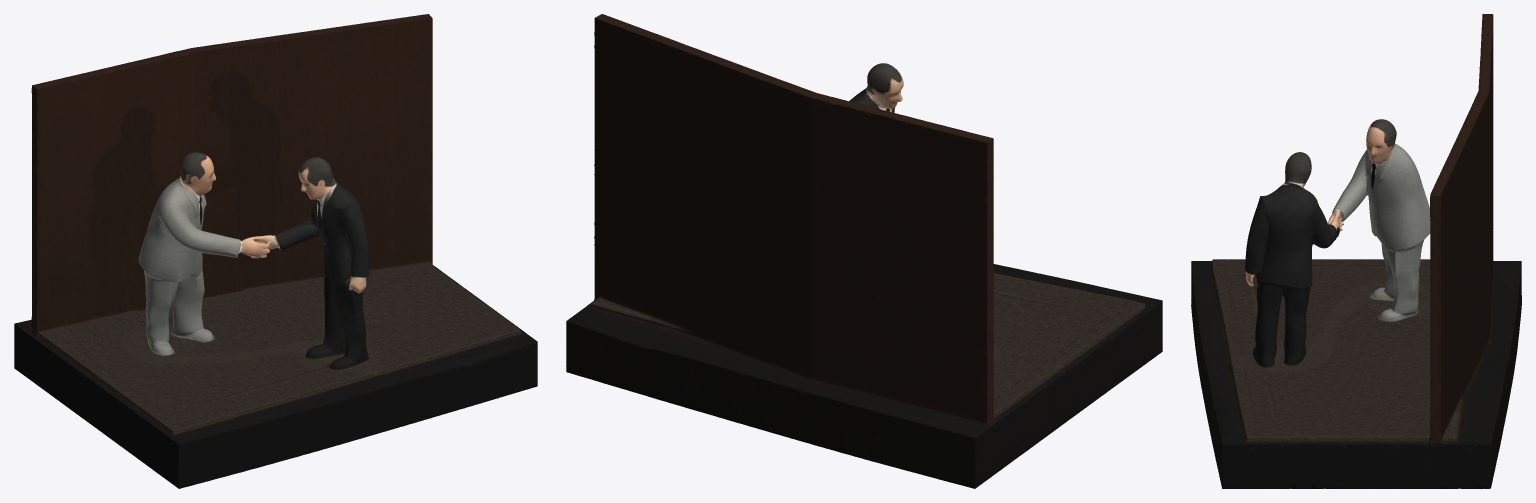
Rendered from my_bat_tay_trung_xo.glb.
3 views of the same model, side by side, from view 1: azimuth 30°, elevation 25°; view 2: azimuth 150°, elevation 25°; view 3: azimuth 270°, elevation 25° (orthographic). The views are drawn at different scales.
Size of the model in its own units: 1.9 by 1.42 by 1.45.
1 material, 1 textured.
